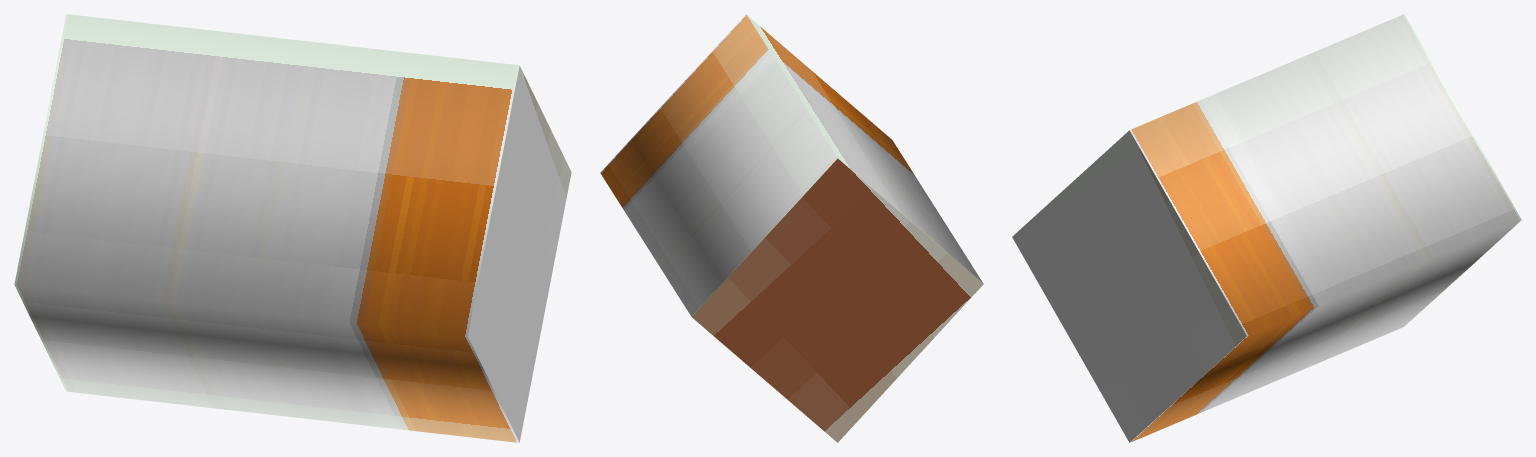
The model's file is butt.FBX.
3 views of the same model, side by side, from view 1: azimuth 30°, elevation 25°; view 2: azimuth 150°, elevation 25°; view 3: azimuth 270°, elevation 25° (orthographic). The views are drawn at different scales.
Visible parts, largest first — view 1: Cylinder001; view 2: Cylinder001; view 3: Cylinder001.
Boxes of the visible parts, bbox=[...] form: Cylinder001: bbox=[14, 14, 571, 442]; Cylinder001: bbox=[600, 14, 983, 442]; Cylinder001: bbox=[1012, 14, 1521, 442].
Bounding box in the file's own units: 0.0571 × 0.0386 × 0.0571.
